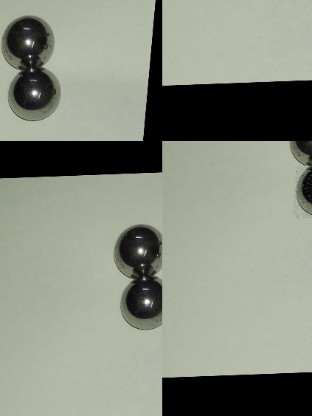ironball: (4, 66, 62, 121), (0, 12, 54, 70), (117, 273, 164, 334), (111, 220, 160, 277), (295, 165, 312, 220), (287, 141, 311, 167)
